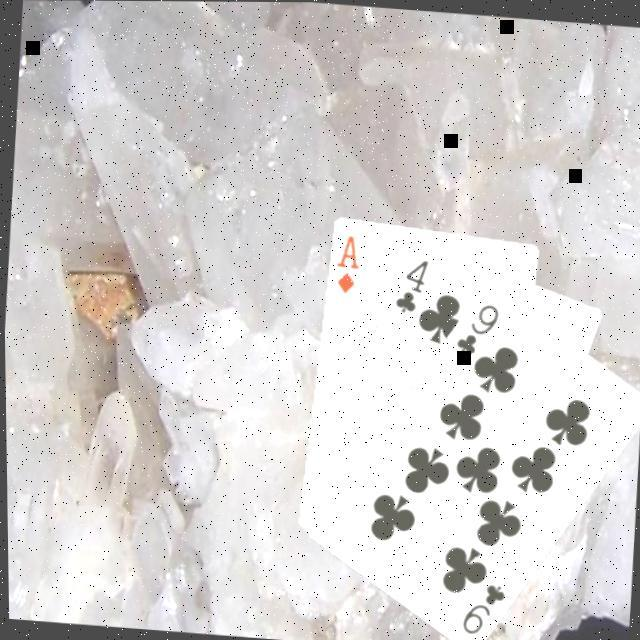4C: (386, 250, 429, 314)
9C: (447, 295, 500, 357), (453, 575, 506, 637)
AD: (328, 228, 361, 294)
